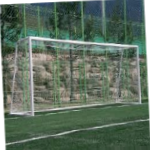goals: (10, 35, 144, 118)
